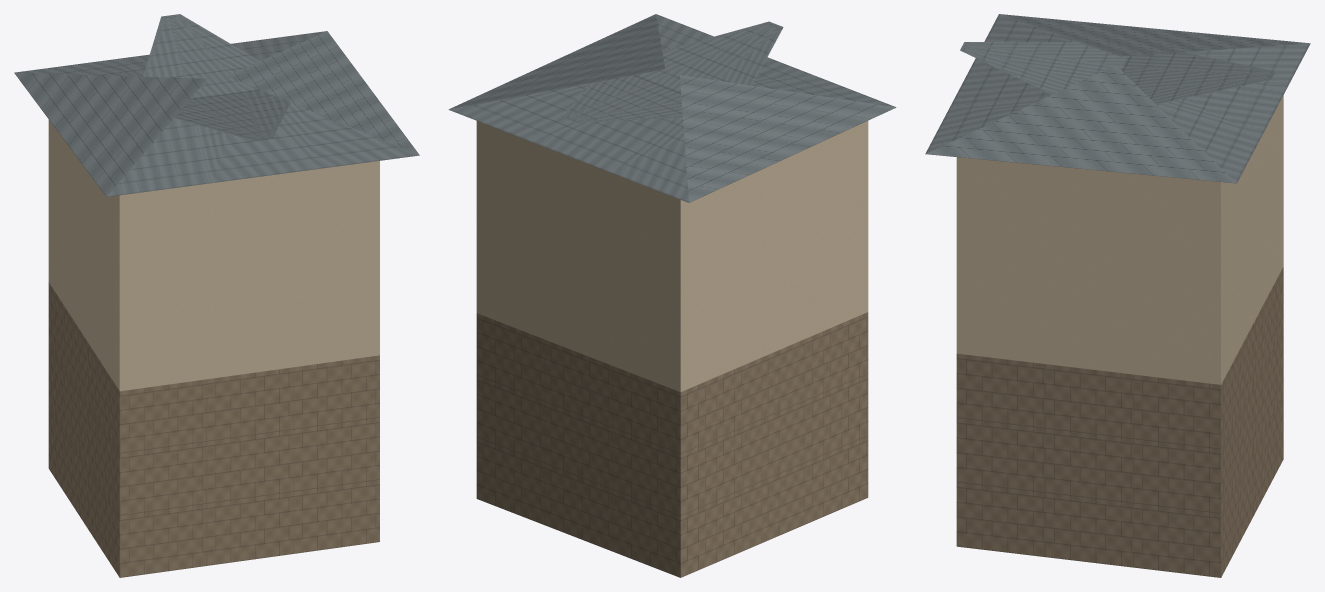
Rendered from bld_c23_-47_530.gltf.
The picture shows the model from 3 angles, left to right: view 1: azimuth 30°, elevation 25°; view 2: azimuth 150°, elevation 25°; view 3: azimuth 270°, elevation 25°; orthographic projection. The views are drawn at different scales.
Visible parts, largest first — view 1: bld_c23_-47_530; view 2: bld_c23_-47_530; view 3: bld_c23_-47_530.
Part boxes in pixels (box(x1,y1,x2,y2)): bld_c23_-47_530: box(14, 14, 419, 577); bld_c23_-47_530: box(448, 14, 896, 577); bld_c23_-47_530: box(925, 14, 1310, 577).
Size of the model in its own units: 9.6 by 11.7 by 9.23.
3 materials, 3 textured.
